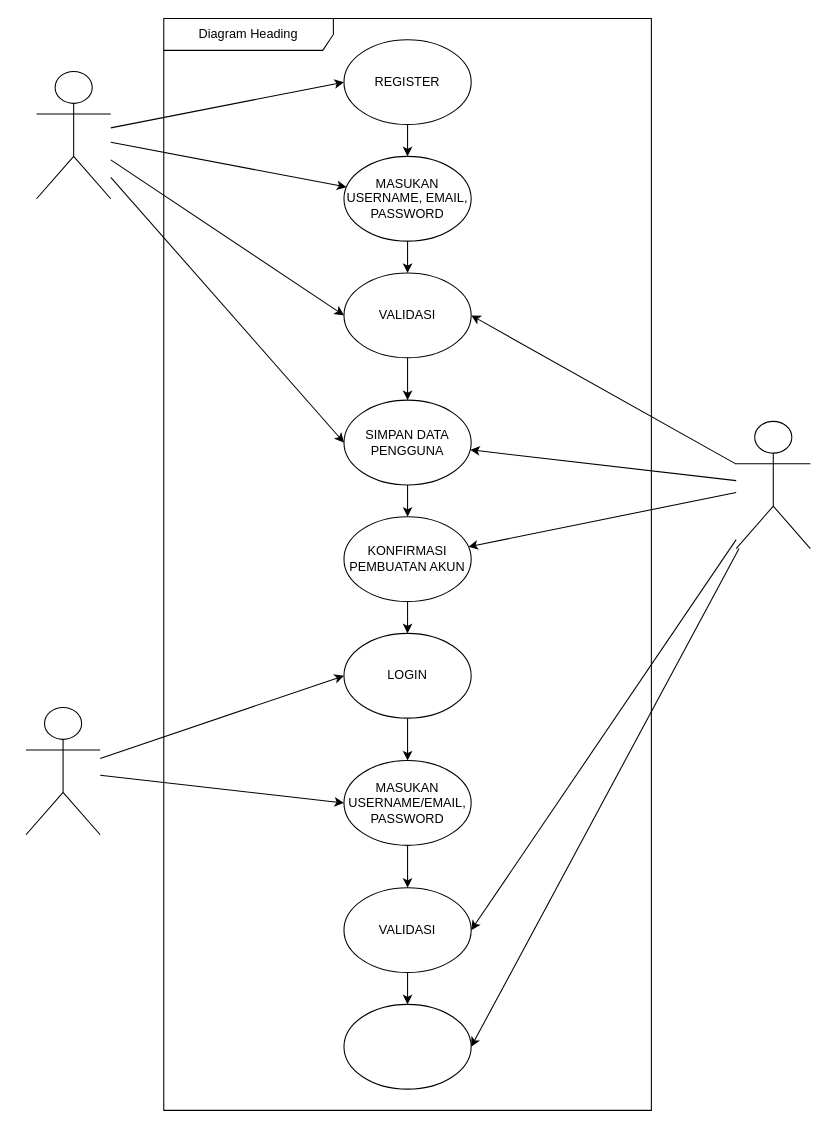
Some shapes in this 829 by 1129 pixel diagram are drawn without their labels. The box of each missing label's shape, as (x1, y1, x2, y2) in pixels:
BERIKAN AKSES KE HALAMAN UTAMA: (343, 1003, 471, 1089)
PENGGUNA: (25, 706, 100, 835)
PENGGUNA BARU: (36, 70, 111, 199)
SYSTEM: (735, 420, 810, 549)
